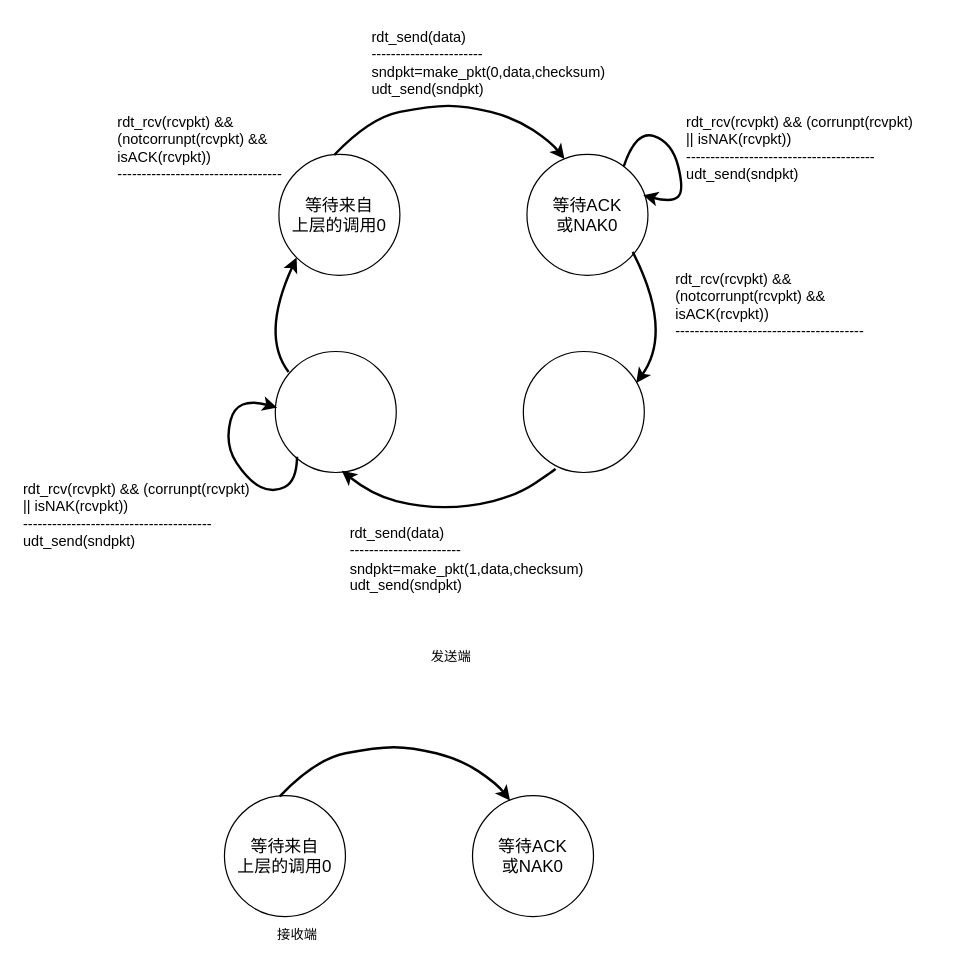
The diagram is 958 pixels wide and 973 high, and some of its shapes have lost their labels. The centre of each missing label's shape, as x and y in pixels:
"等待ACK 或NAK1" belongs at (335,411).
"等待来自上层的调用1" belongs at (583,411).
